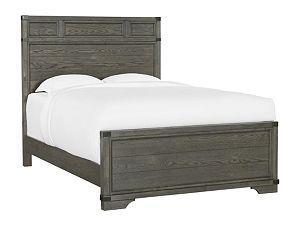bed: (18, 11, 289, 218)
